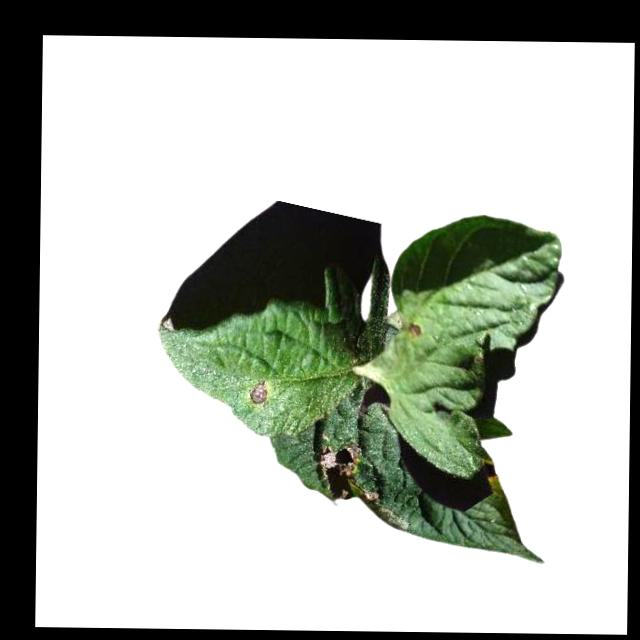Early_blight: (318, 442, 365, 503), (250, 382, 266, 405), (408, 324, 422, 339)
